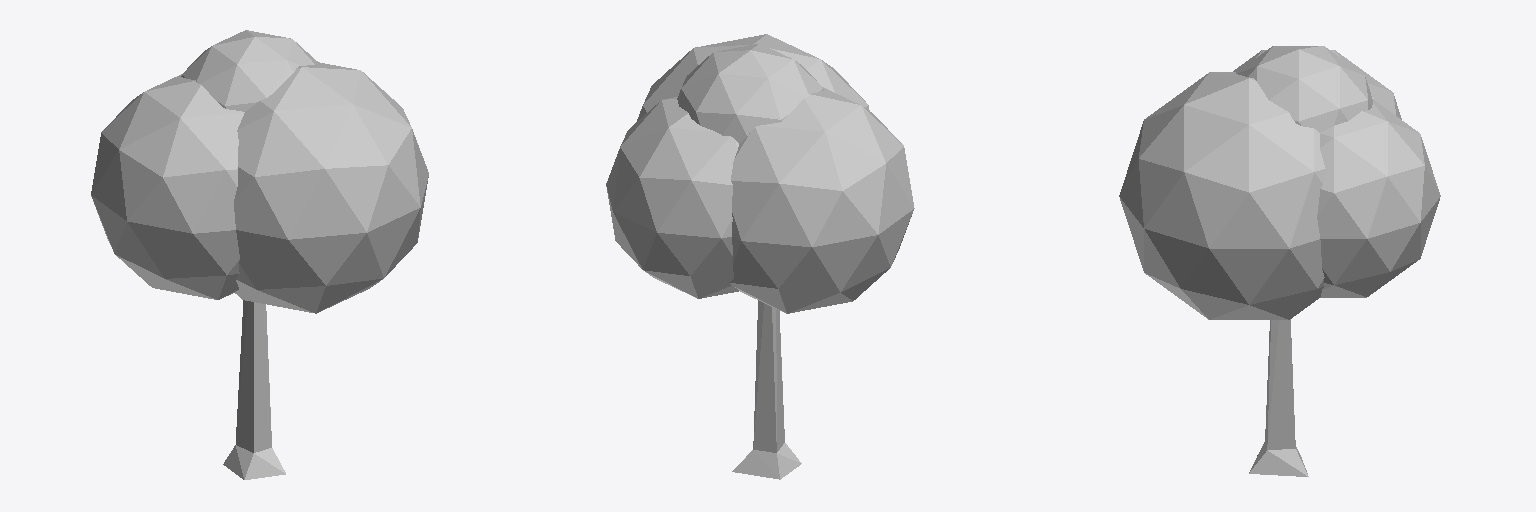
File: tree_02.obj
The picture shows the model from 3 angles: view 1: azimuth 30°, elevation 25°; view 2: azimuth 150°, elevation 25°; view 3: azimuth 270°, elevation 25°; orthographic projection.
Parts seen in each view (by area): view 1: Tree_02; view 2: Tree_02; view 3: Tree_02.
Boxes of the visible parts, box(x1,y1,x2,y2) form: Tree_02: box(91, 30, 428, 479); Tree_02: box(606, 34, 914, 479); Tree_02: box(1119, 46, 1440, 476).
Bounding box in the file's own units: 10.74 × 15.68 × 10.86.